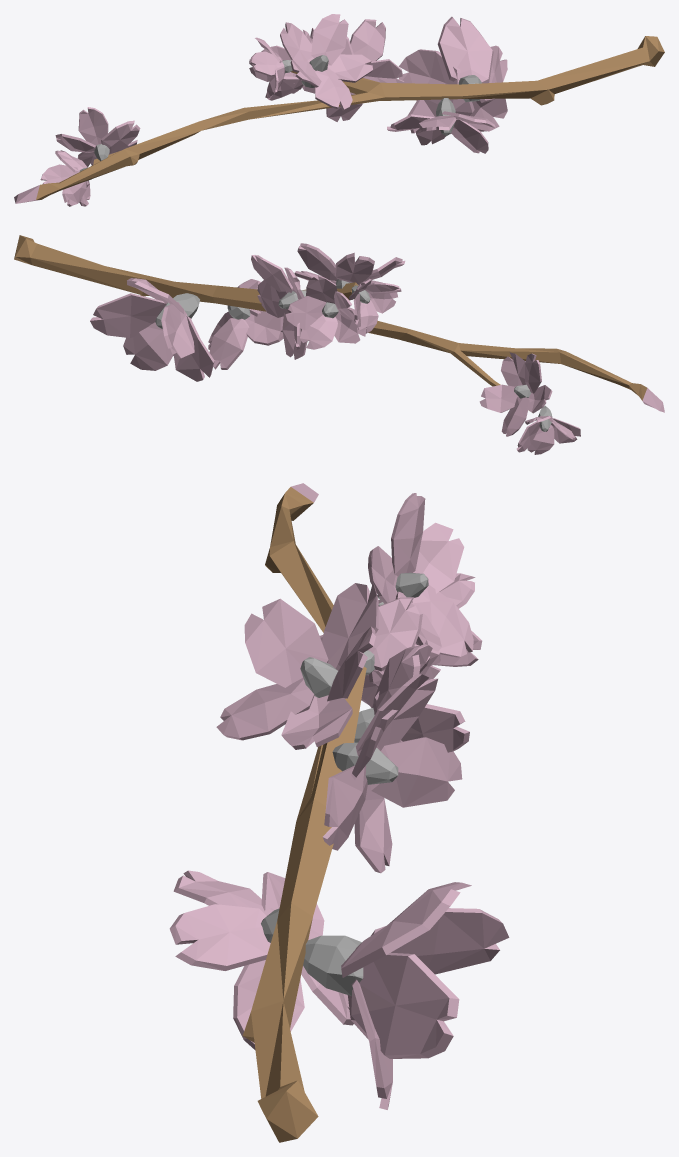
File: cherry.fbx
The picture shows the model from 3 angles, top to bottom: view 1: azimuth 30°, elevation 25°; view 2: azimuth 150°, elevation 25°; view 3: azimuth 270°, elevation 25°; orthographic projection. The views are drawn at different scales.
Parts seen in each view (by area): view 1: polySurface84; view 2: polySurface84; view 3: polySurface84.
Boxes of the visible parts, x1,y1,x2,y2 form: polySurface84: [14, 14, 664, 206]; polySurface84: [14, 235, 664, 454]; polySurface84: [169, 483, 509, 1142].
Size of the model in its own units: 55.67 by 13.46 by 12.81.
